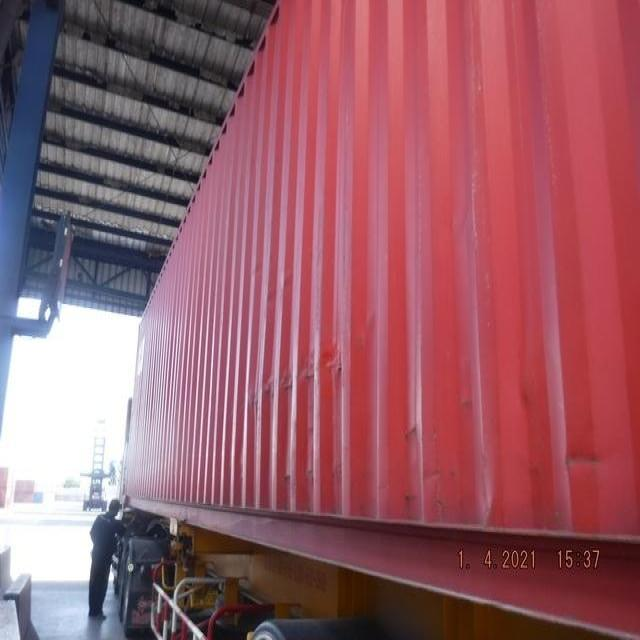dent: (246, 348, 348, 416), (560, 444, 605, 477)
